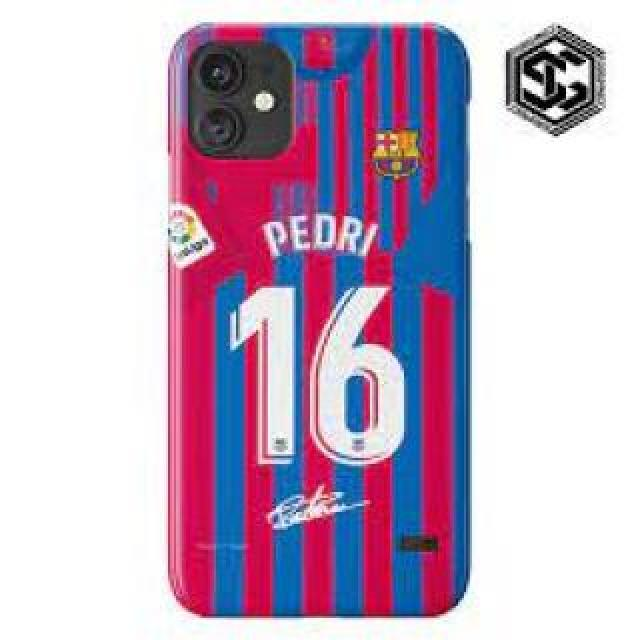smart phone: (118, 3, 500, 640)
